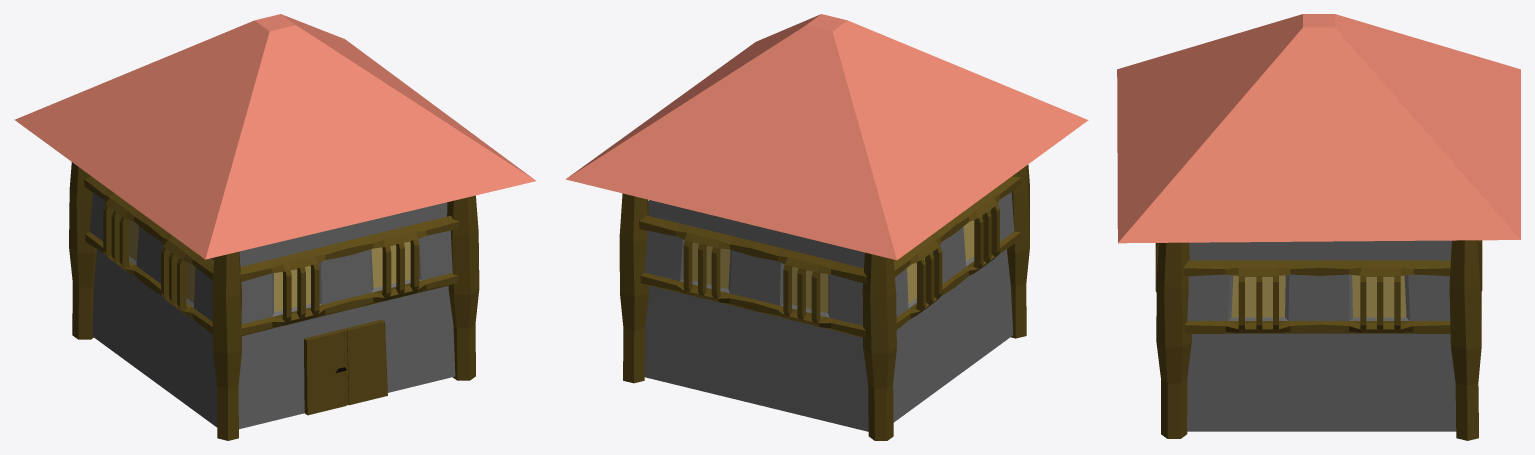
3 renders of one model, left to right at view 1: azimuth 30°, elevation 25°; view 2: azimuth 150°, elevation 25°; view 3: azimuth 270°, elevation 25°, orthographic. The views are drawn at different scales.
Parts seen in each view (by area): view 1: roof, Ev2, Cylinder.012, door, Cylinder.007, Cylinder.009, Cylinder.010, Cylinder.008; view 2: roof, Ev2, Cylinder.013, Cylinder.007, Cylinder.008, Cylinder.011, Cylinder.009; view 3: roof, Ev2, Cylinder.014, Cylinder.010, Cylinder.011.
Part boxes in pixels (bbox=[...]): roof: bbox=[14, 14, 535, 259]; Ev2: bbox=[89, 192, 455, 429]; Cylinder.012: bbox=[240, 216, 459, 335]; door: bbox=[304, 319, 387, 415]; Cylinder.007: bbox=[84, 176, 213, 334]; Cylinder.009: bbox=[212, 251, 241, 440]; Cylinder.010: bbox=[447, 195, 479, 380]; Cylinder.008: bbox=[69, 162, 97, 339]; roof: bbox=[565, 14, 1088, 260]; Ev2: bbox=[644, 192, 1014, 431]; Cylinder.013: bbox=[639, 215, 866, 337]; Cylinder.007: bbox=[893, 176, 1021, 329]; Cylinder.008: bbox=[862, 252, 896, 440]; Cylinder.011: bbox=[619, 193, 649, 383]; Cylinder.009: bbox=[1007, 164, 1029, 338]; roof: bbox=[1117, 14, 1520, 243]; Ev2: bbox=[1187, 240, 1456, 431]; Cylinder.014: bbox=[1183, 260, 1450, 333]; Cylinder.010: bbox=[1156, 242, 1191, 438]; Cylinder.011: bbox=[1449, 240, 1481, 440].
Bounding box in the file's own units: 2122 × 2033 × 2116.
